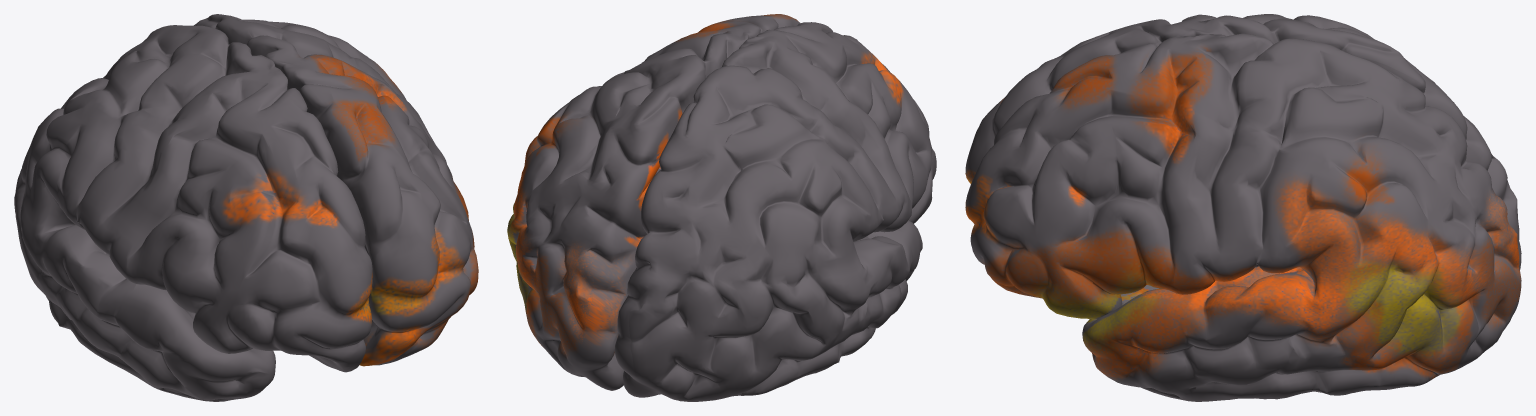
Rendered from brainBothFeetComp.glb.
3 views of the same model, side by side, from view 1: azimuth 30°, elevation 25°; view 2: azimuth 150°, elevation 25°; view 3: azimuth 270°, elevation 25° (orthographic). The views are drawn at different scales.
Parts seen in each view (by area): view 1: Left, Right; view 2: Left, Right; view 3: Right, Left.
Boxes of the visible parts, <box> form: Left: <box>14,25,372,401</box>; Right: <box>194,14,478,366</box>; Left: <box>614,22,936,401</box>; Right: <box>507,14,800,390</box>; Right: <box>965,33,1521,401</box>; Left: <box>965,14,1521,269</box>.
Size of the model in its own units: 1.76 by 1.39 by 2.18.
2 materials, 2 textured.
